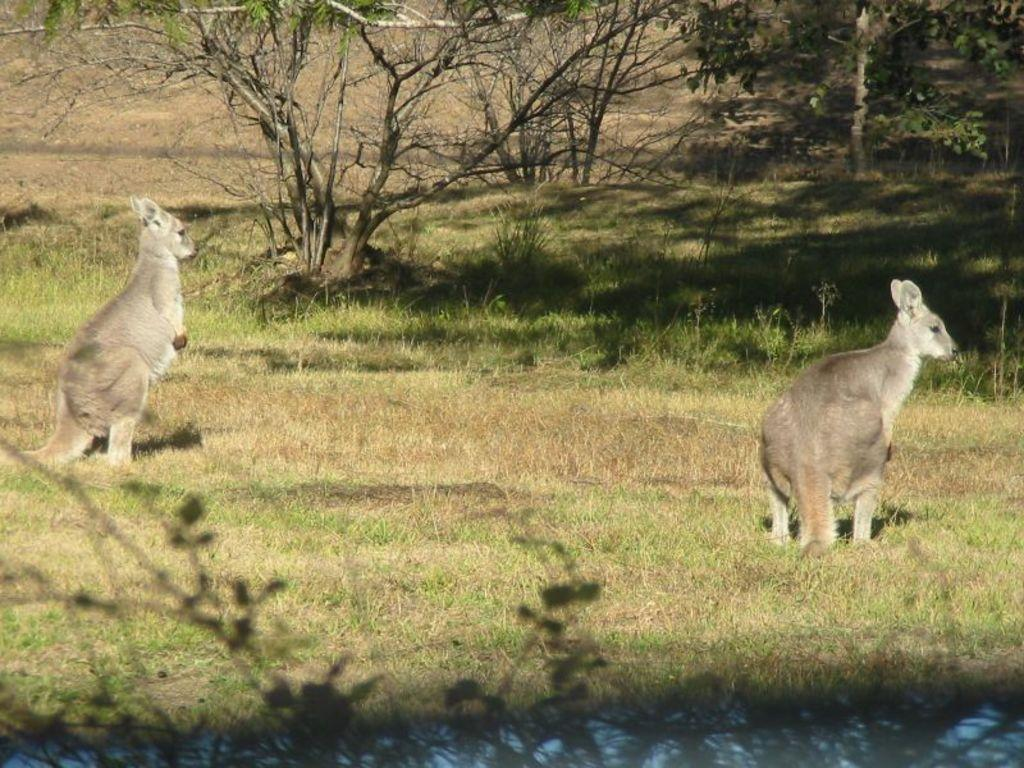kangaroo: (0, 195, 197, 478), (754, 276, 958, 546)
